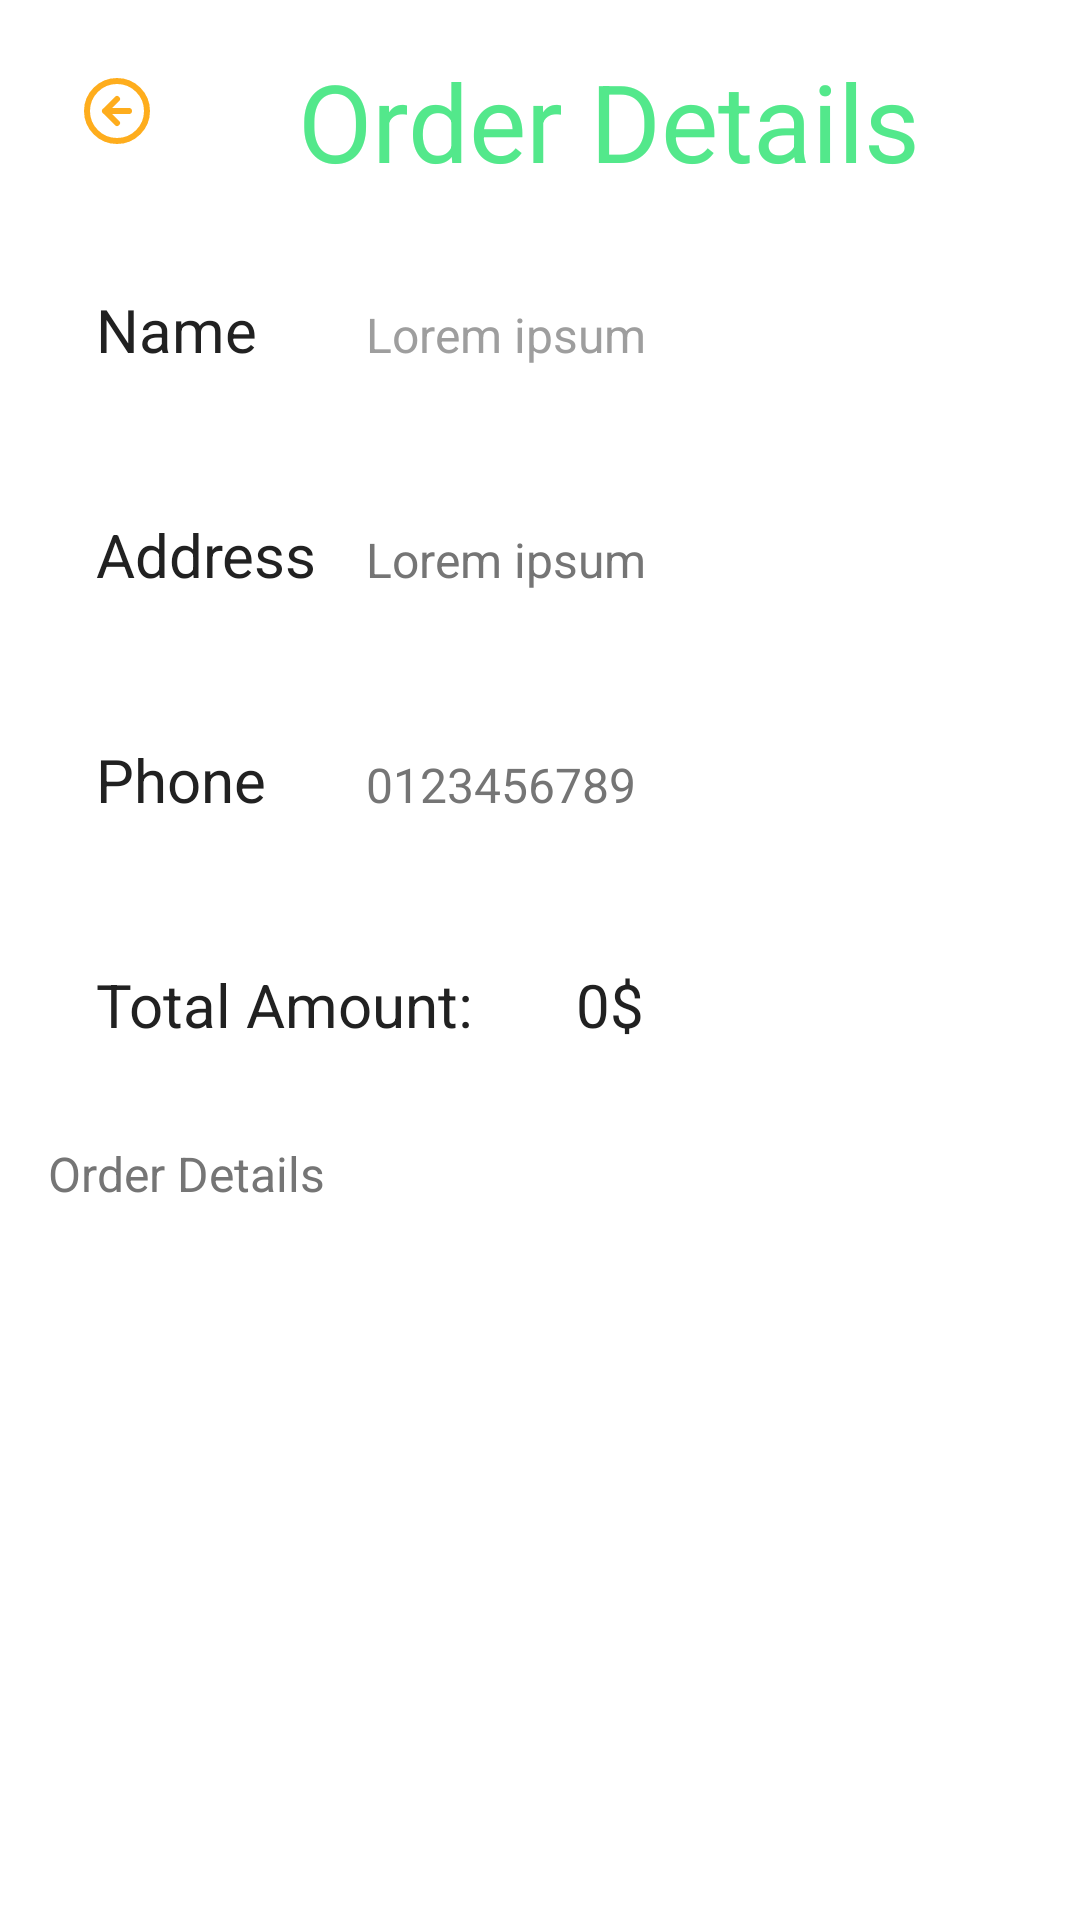

Icon bounding boxes for this 1080 x 1920 phone screenshot, format (x1, y1, x2, y2):
back arrow: (84, 78, 150, 144)
